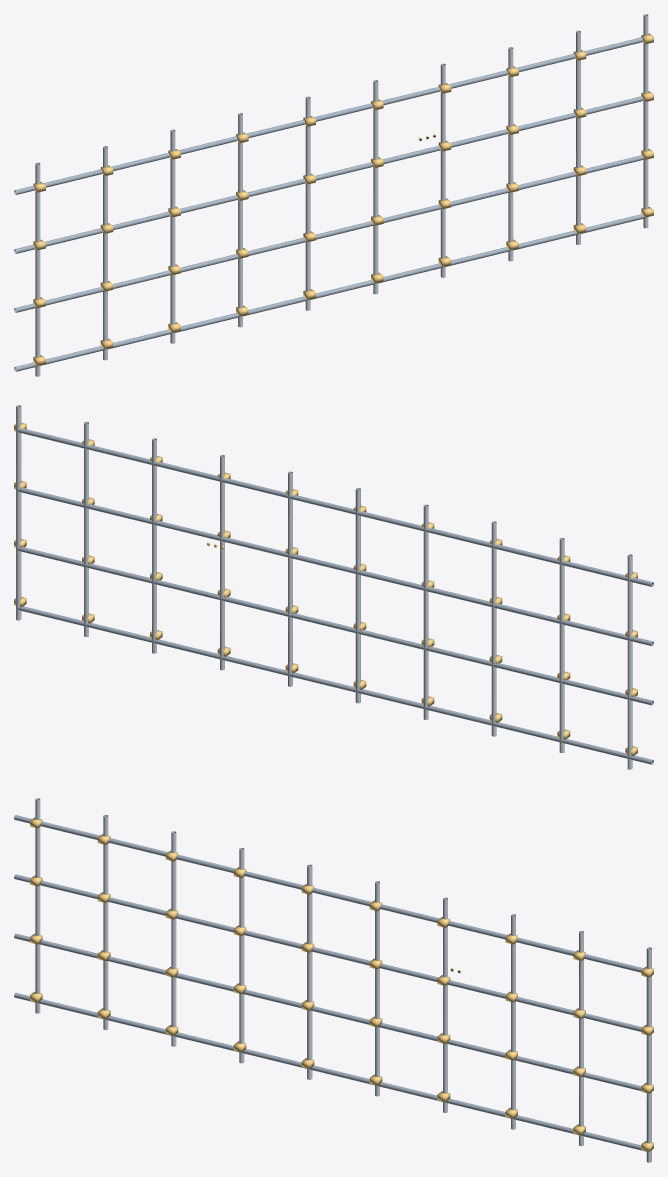
The model's file is 02_L90_ExteriorOrbitalStationTruss.fbx.
3 renders of one model, top to bottom at view 1: azimuth 30°, elevation 25°; view 2: azimuth 150°, elevation 25°; view 3: azimuth 330°, elevation 25°, orthographic.
Parts seen in each view (by area): view 1: L90_ExteriorOrbitalStationTru_Part_0000, L90_ExteriorOrbitalStationTru_Part_0001, L90_ExteriorOrbitalStationTru_Part_0003, L90_ExteriorOrbitalStationTru_Part_0002; view 2: L90_ExteriorOrbitalStationTru_Part_0000, L90_ExteriorOrbitalStationTru_Part_0001, L90_ExteriorOrbitalStationTru_Part_0002, L90_ExteriorOrbitalStationTru_Part_0003; view 3: L90_ExteriorOrbitalStationTru_Part_0000, L90_ExteriorOrbitalStationTru_Part_0001, L90_ExteriorOrbitalStationTru_Part_0002, L90_ExteriorOrbitalStationTru_Part_0003.
Boxes of the visible parts, x1,y1,x2,y2 form: L90_ExteriorOrbitalStationTru_Part_0000: (14, 37, 645, 371); L90_ExteriorOrbitalStationTru_Part_0001: (35, 14, 648, 376); L90_ExteriorOrbitalStationTru_Part_0003: (303, 50, 653, 283); L90_ExteriorOrbitalStationTru_Part_0002: (33, 132, 315, 365); L90_ExteriorOrbitalStationTru_Part_0000: (17, 428, 653, 764); L90_ExteriorOrbitalStationTru_Part_0001: (16, 405, 632, 769); L90_ExteriorOrbitalStationTru_Part_0002: (353, 522, 637, 756); L90_ExteriorOrbitalStationTru_Part_0003: (14, 439, 366, 673); L90_ExteriorOrbitalStationTru_Part_0000: (14, 815, 646, 1151); L90_ExteriorOrbitalStationTru_Part_0001: (35, 798, 651, 1162); L90_ExteriorOrbitalStationTru_Part_0002: (30, 817, 314, 1068); L90_ExteriorOrbitalStationTru_Part_0003: (301, 884, 653, 1151).
Size of the model in its own units: 28.18 by 9 by 1.2.
